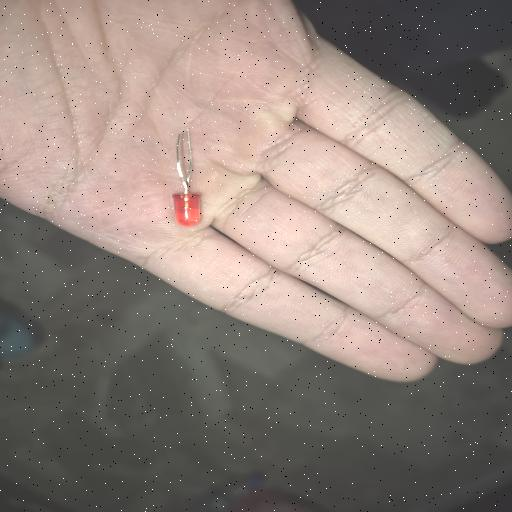led-diode: (172, 129, 201, 227)
